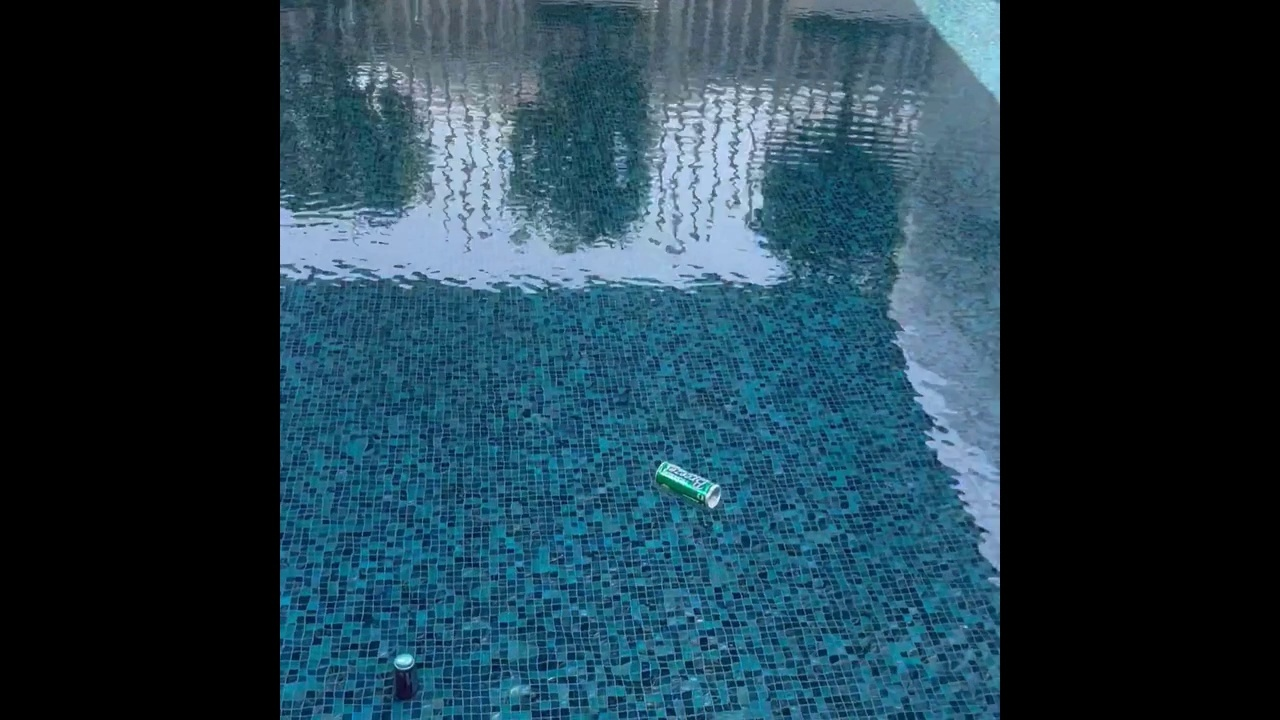debris: (649, 454, 725, 511), (388, 647, 423, 700)
